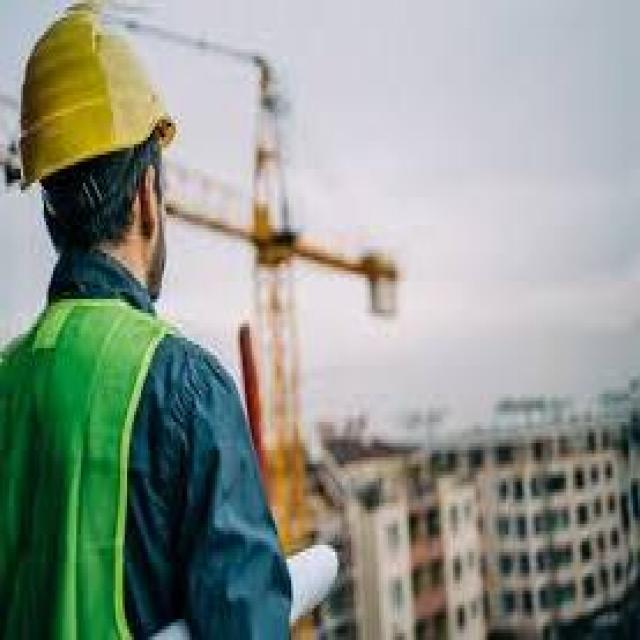reflective_jacket: (0, 277, 205, 636)
safety_helmet: (9, 6, 182, 197)
